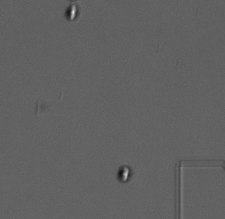Dead Cell: (115, 163, 134, 183)
Living Cell: (63, 3, 80, 22)
